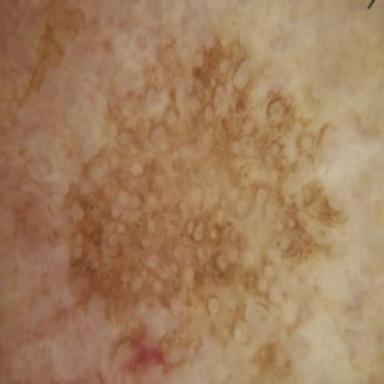Melanoma: (64, 34, 349, 384)
